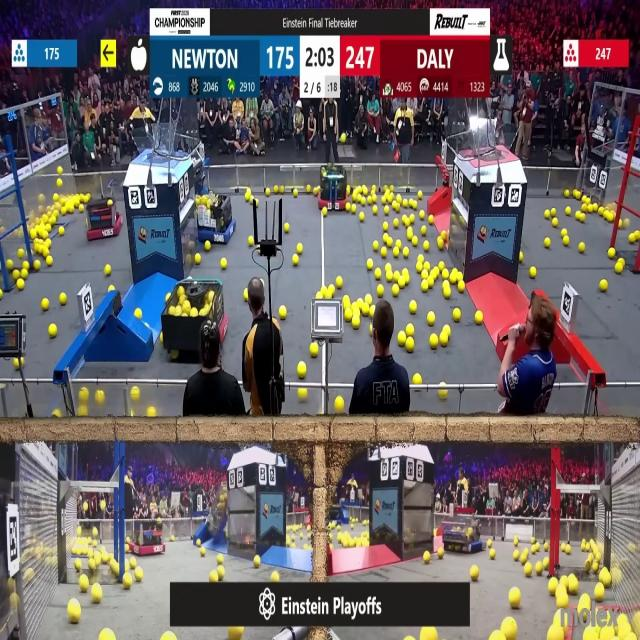ball_airborne: (342, 135, 348, 145), (100, 500, 106, 510), (57, 180, 63, 188), (83, 502, 88, 511), (58, 168, 63, 176)
ball_ground: (501, 619, 515, 640), (68, 600, 80, 622), (511, 589, 522, 609), (92, 586, 102, 604), (599, 570, 610, 586), (568, 579, 578, 596), (296, 361, 306, 377), (557, 594, 568, 608), (579, 592, 589, 607), (336, 396, 345, 411), (96, 390, 105, 405), (596, 586, 604, 602), (550, 580, 558, 596), (469, 566, 478, 580), (79, 578, 88, 592), (79, 388, 88, 402), (111, 562, 120, 576), (9, 594, 18, 608), (310, 343, 318, 358), (101, 630, 113, 640), (546, 628, 556, 640), (426, 628, 436, 640), (297, 388, 306, 401), (406, 339, 415, 352), (430, 336, 438, 350), (122, 574, 130, 588), (210, 570, 219, 582), (131, 388, 140, 400), (48, 324, 56, 337), (453, 309, 461, 322), (427, 313, 435, 326), (616, 262, 624, 275), (444, 285, 452, 298), (135, 568, 143, 581), (397, 333, 405, 346), (170, 349, 178, 362), (585, 630, 595, 640), (406, 324, 414, 336), (352, 316, 360, 328), (524, 564, 532, 576), (474, 312, 481, 325), (411, 302, 418, 315), (78, 408, 87, 418), (147, 408, 155, 419), (440, 389, 448, 400), (326, 285, 334, 296), (90, 558, 98, 569), (378, 285, 385, 297), (442, 336, 449, 348), (600, 280, 607, 292), (392, 284, 399, 296), (253, 556, 260, 568), (451, 272, 458, 284), (272, 571, 280, 581), (414, 375, 422, 385), (16, 280, 24, 290), (344, 311, 352, 321), (628, 234, 636, 244), (490, 632, 500, 640), (42, 297, 48, 310), (218, 566, 224, 579), (61, 293, 68, 304), (337, 277, 344, 288), (220, 260, 227, 271), (535, 563, 542, 574), (362, 306, 369, 317), (555, 615, 562, 626), (280, 307, 286, 319), (458, 281, 464, 293), (244, 289, 250, 301), (424, 552, 430, 564), (366, 260, 372, 272), (76, 559, 82, 571), (443, 324, 451, 333), (193, 253, 200, 263), (217, 554, 224, 564), (45, 256, 52, 266), (135, 310, 142, 320), (22, 270, 29, 280), (131, 558, 138, 568), (423, 280, 430, 290), (401, 216, 408, 226), (411, 200, 418, 210), (521, 554, 528, 564), (606, 212, 613, 222), (164, 633, 174, 640), (608, 248, 614, 259), (105, 266, 111, 277), (530, 268, 536, 279), (578, 242, 584, 253), (292, 254, 298, 265), (296, 243, 302, 254), (439, 239, 445, 250), (444, 271, 451, 280), (563, 237, 569, 247), (413, 237, 419, 247), (35, 262, 41, 272), (402, 248, 408, 258), (248, 237, 254, 247), (490, 550, 496, 560), (376, 270, 382, 280), (387, 272, 393, 282), (393, 248, 399, 258), (60, 225, 66, 235), (13, 358, 19, 368), (519, 252, 525, 262), (381, 247, 387, 257), (388, 238, 394, 248), (420, 210, 426, 220), (344, 295, 350, 305), (393, 218, 399, 228), (578, 212, 584, 222), (6, 262, 12, 272), (542, 559, 548, 569), (420, 225, 426, 235), (408, 229, 413, 241), (368, 306, 374, 316), (392, 202, 398, 212), (321, 285, 327, 295), (316, 292, 323, 300), (42, 247, 49, 255), (67, 206, 74, 214), (424, 241, 429, 252), (384, 207, 390, 216), (205, 242, 211, 251), (17, 249, 23, 258), (346, 204, 352, 213), (410, 215, 416, 224), (393, 273, 399, 282), (84, 194, 90, 203), (386, 194, 392, 203), (356, 297, 362, 306), (544, 238, 549, 248), (437, 550, 442, 560), (553, 217, 558, 227), (359, 212, 364, 222), (372, 239, 377, 249), (54, 412, 61, 419), (564, 208, 571, 215), (244, 193, 251, 200), (365, 294, 371, 302), (24, 263, 30, 271), (564, 189, 570, 197), (422, 272, 428, 280), (386, 265, 392, 273), (395, 240, 401, 248), (418, 254, 424, 262), (562, 230, 568, 238), (402, 270, 408, 278), (12, 272, 18, 280), (254, 200, 260, 208), (395, 193, 401, 201), (588, 205, 594, 213), (370, 184, 376, 192), (123, 544, 129, 552), (274, 185, 280, 193), (284, 222, 289, 231), (371, 206, 376, 215), (417, 265, 422, 274), (515, 552, 520, 561), (398, 279, 403, 288), (351, 204, 356, 213), (458, 272, 463, 281), (402, 200, 407, 209), (532, 544, 537, 553), (619, 219, 624, 228), (292, 189, 298, 196), (45, 241, 51, 248), (45, 224, 51, 231), (322, 208, 327, 216), (428, 215, 433, 223), (368, 326, 372, 336), (383, 222, 388, 230), (418, 190, 423, 198), (424, 264, 429, 272), (195, 538, 200, 546), (488, 539, 493, 547), (307, 184, 312, 192), (552, 209, 557, 217), (0, 289, 4, 299), (361, 198, 366, 206), (110, 284, 115, 292), (443, 232, 448, 240), (566, 547, 571, 555), (544, 210, 548, 219), (370, 197, 375, 204), (108, 200, 113, 207), (79, 205, 83, 213), (384, 235, 388, 243), (202, 549, 206, 557), (543, 542, 547, 550), (280, 185, 284, 193), (352, 192, 356, 200), (314, 187, 318, 195), (363, 520, 368, 526), (515, 538, 519, 545), (267, 188, 271, 195), (441, 263, 445, 270), (290, 541, 294, 548), (0, 383, 4, 390), (531, 536, 535, 543), (172, 535, 176, 541), (305, 543, 309, 549), (291, 534, 295, 540)
goal: (464, 121, 520, 160), (130, 129, 188, 161)
robot_blue: (195, 192, 238, 245), (443, 515, 485, 553)
robot_red: (162, 278, 230, 351), (319, 162, 352, 210), (86, 199, 123, 239), (130, 518, 166, 554)
